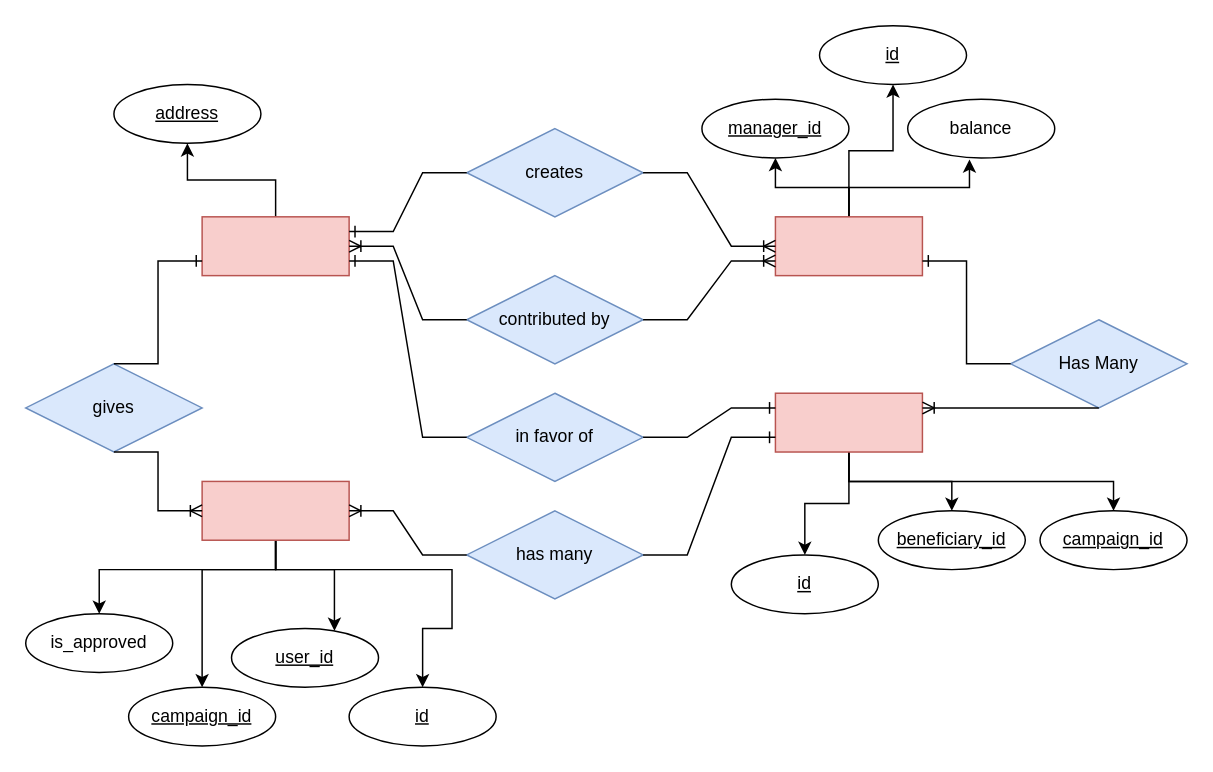
The diagram is 1213 pixels wide and 772 high, and some of its shapes have lost their labels. Each missing label, with the box of its shape:
campaign: (774, 215, 922, 276)
request approval: (201, 480, 349, 540)
user: (201, 215, 349, 276)
withdrawal request: (774, 392, 922, 452)
